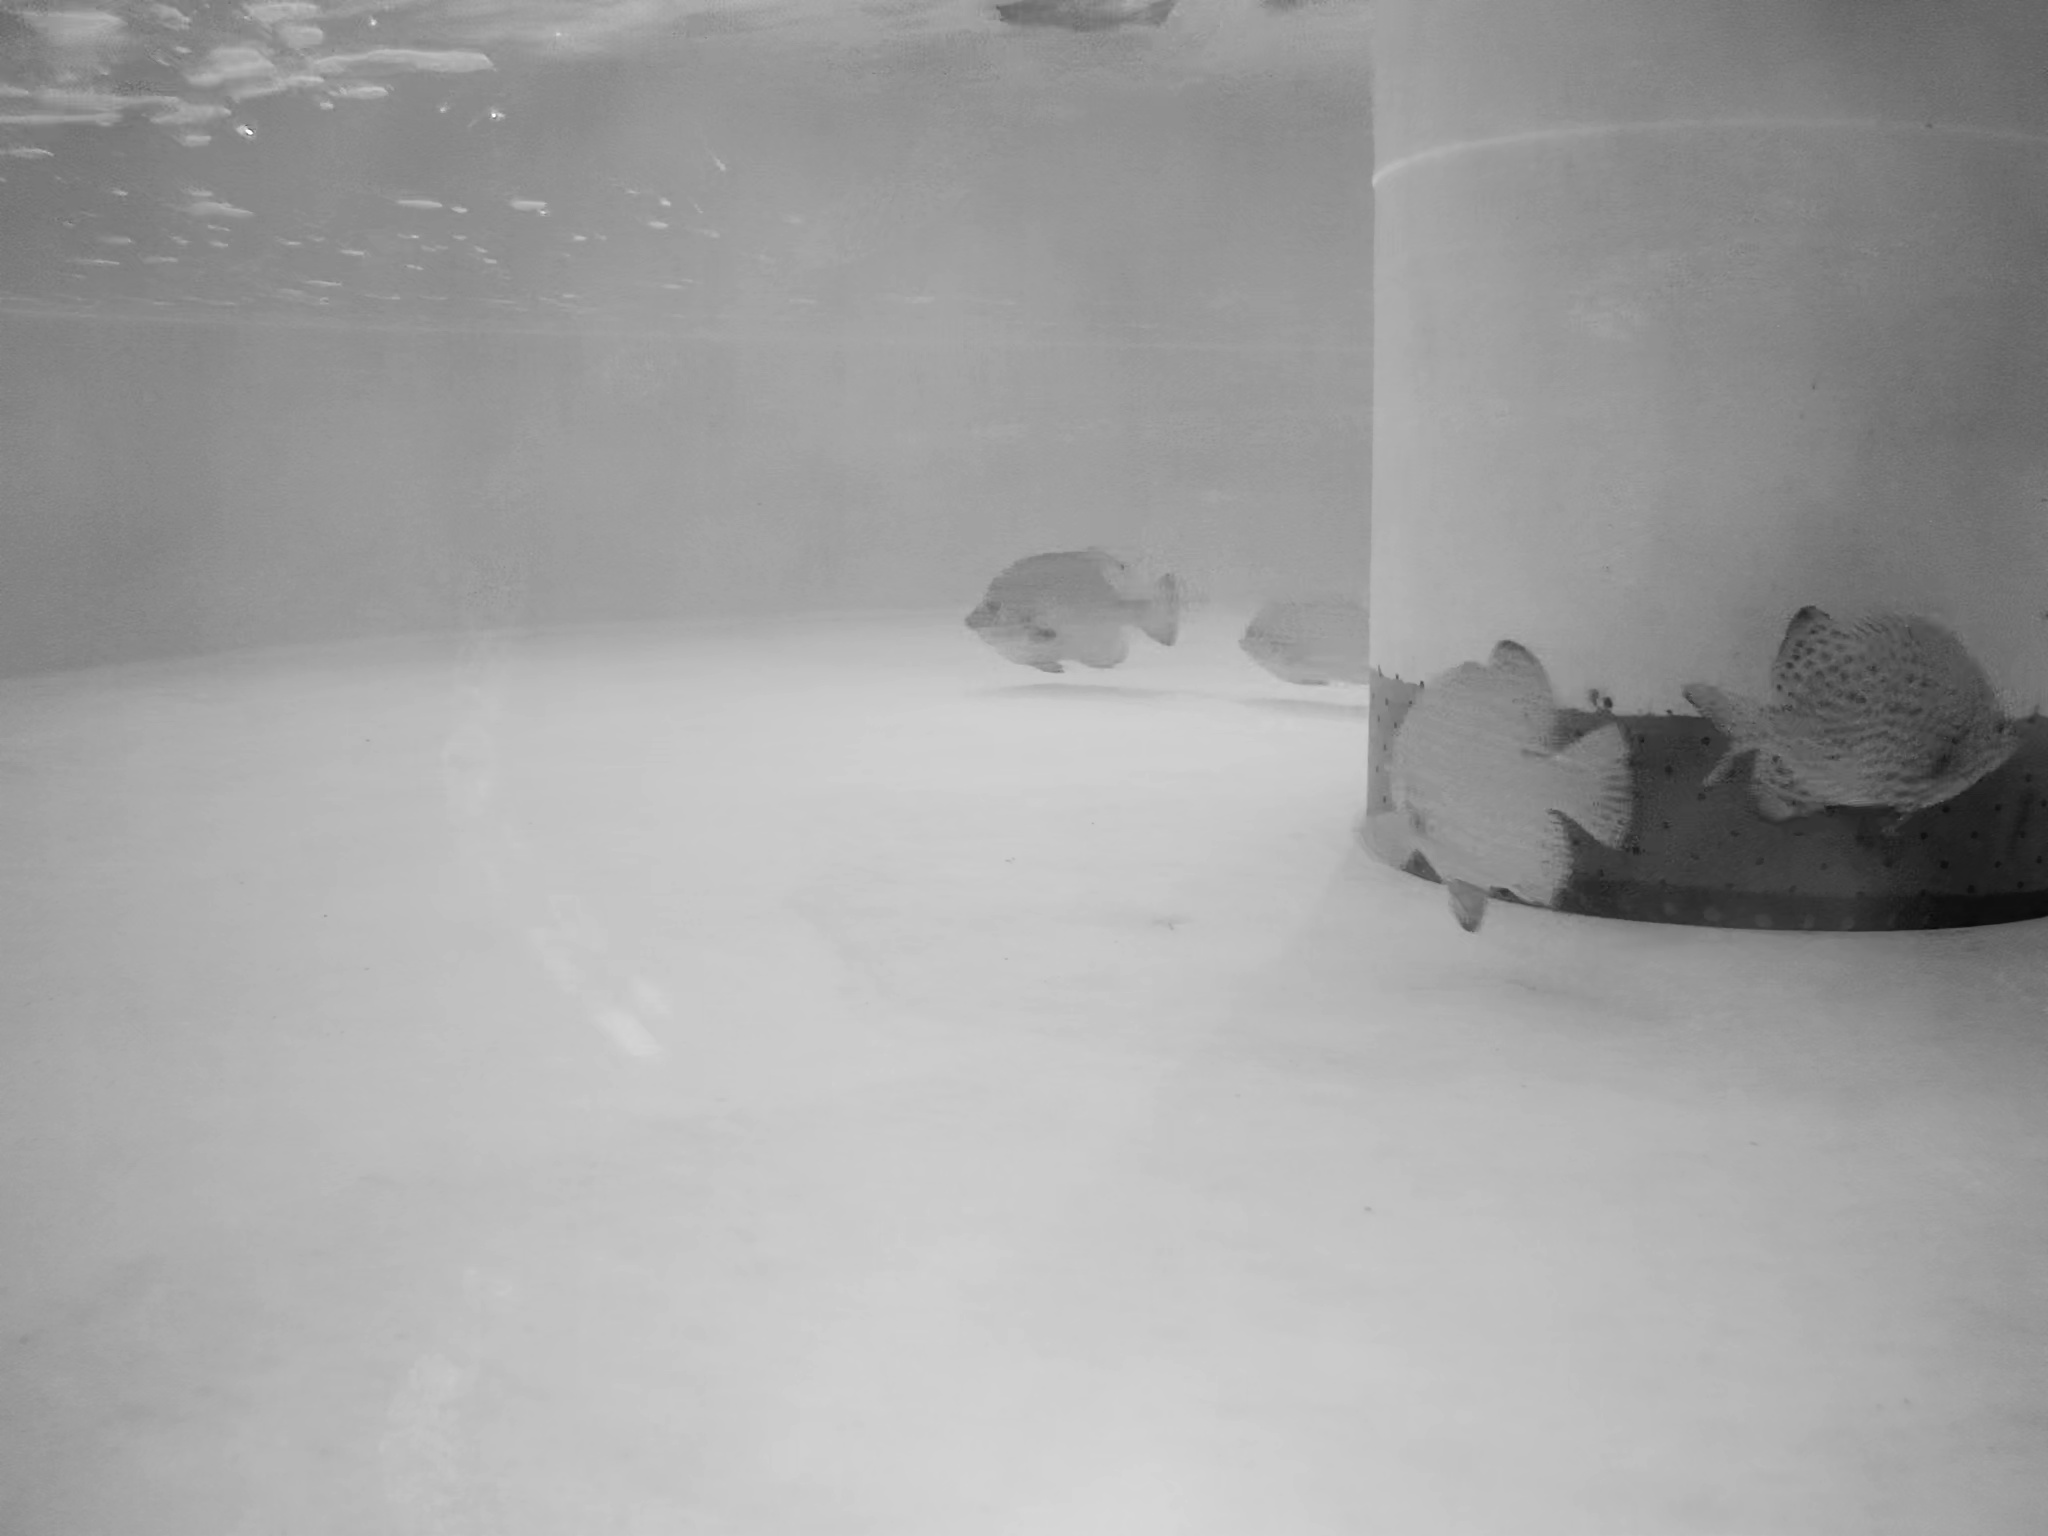fish: (1351, 645, 1642, 929), (1690, 597, 2024, 818), (966, 539, 1184, 674), (1232, 594, 1371, 692), (990, 2, 1177, 27)
